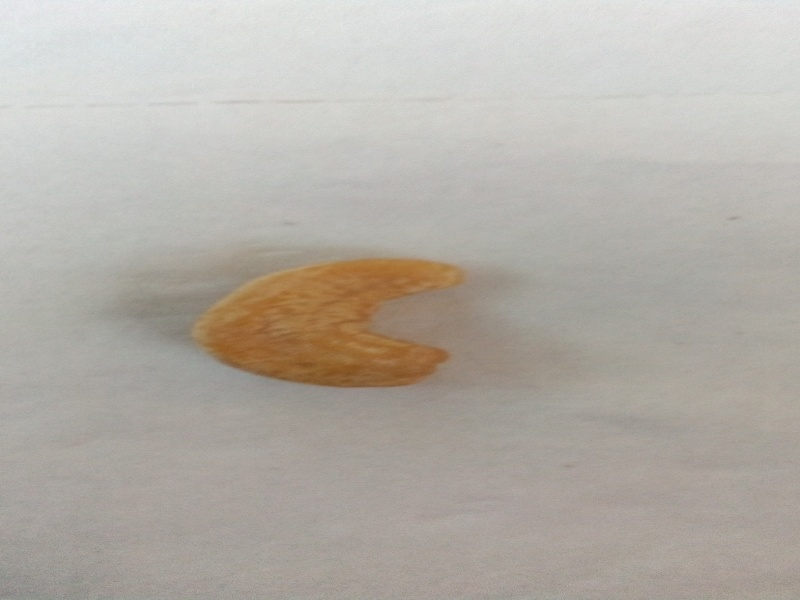cashew: (171, 243, 496, 401)
